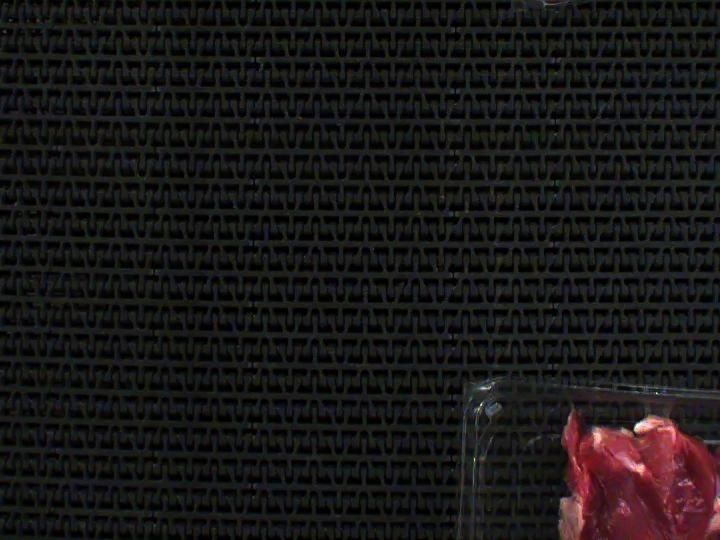packaging-error: (644, 393, 678, 423)
